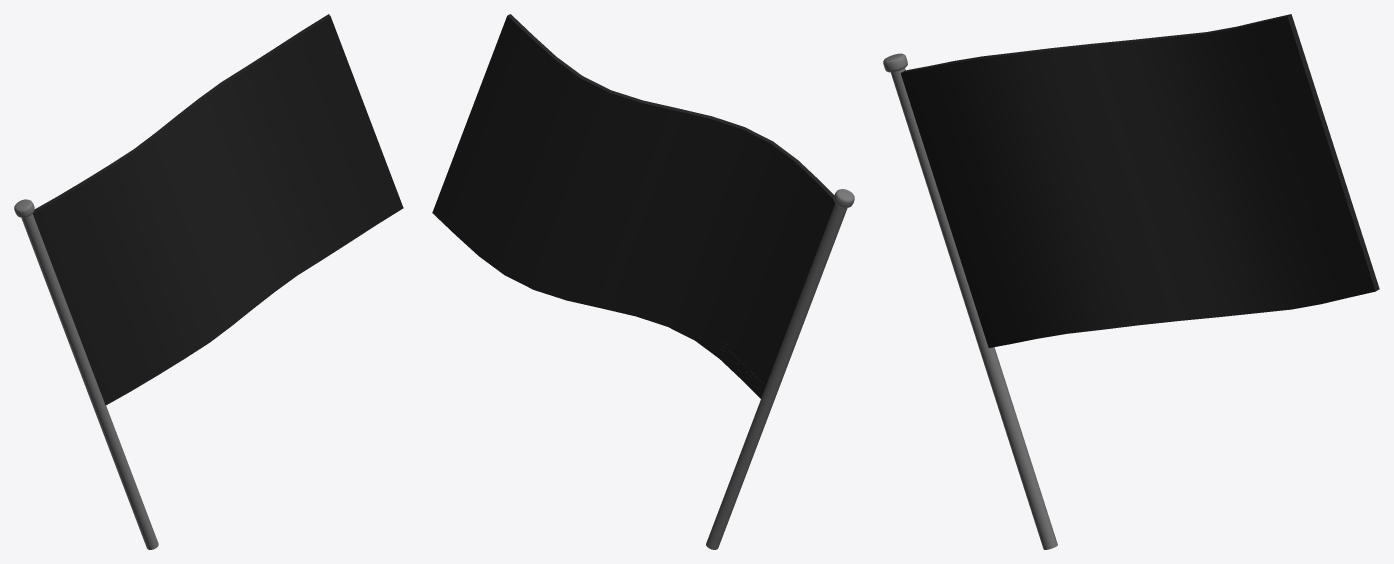
The model's file is black_flag.fbx.
3 views of the same model, side by side, from view 1: azimuth 30°, elevation 25°; view 2: azimuth 150°, elevation 25°; view 3: azimuth 330°, elevation 25° (orthographic). The views are drawn at different scales.
Parts seen in each view (by area): view 1: Circle.2661; view 2: Circle.2661; view 3: Circle.2661.
Boxes of the visible parts, <box> form: Circle.2661: <box>14,14,403,549</box>; Circle.2661: <box>432,14,854,549</box>; Circle.2661: <box>883,14,1379,549</box>.
Bounding box in the file's own units: 207 × 239 × 24.02.
1 material, 1 textured.
